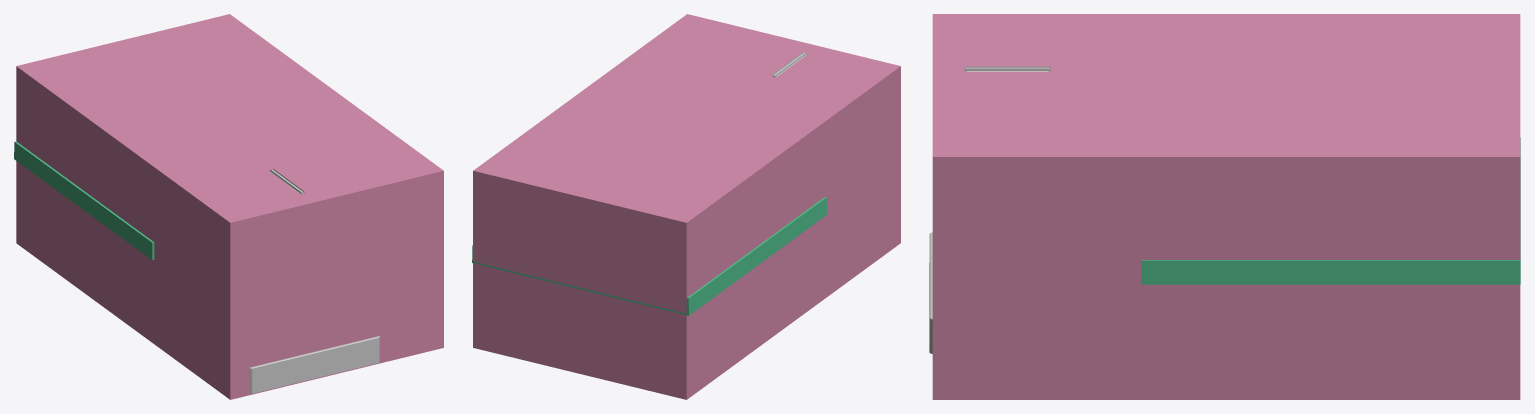
File: gas_station_01.dae
The picture shows the model from 3 angles, left to right: view 1: azimuth 30°, elevation 25°; view 2: azimuth 150°, elevation 25°; view 3: azimuth 270°, elevation 25°; orthographic projection. The views are drawn at different scales.
Visible parts, largest first — view 1: Untitled, ind_bld_a500, Colmesh-1; view 2: Untitled, Colmesh-1; view 3: Untitled, Colmesh-1, ind_bld_a500.
Boxes of the visible parts, x1=… form: Untitled: x1=16, y1=14, x2=443, y2=399; ind_bld_a500: x1=249, y1=169, x2=379, y2=393; Colmesh-1: x1=14, y1=141, x2=154, y2=260; Untitled: x1=473, y1=14, x2=900, y2=399; Colmesh-1: x1=472, y1=197, x2=826, y2=315; Untitled: x1=932, y1=14, x2=1520, y2=399; Colmesh-1: x1=1141, y1=137, x2=1520, y2=284; ind_bld_a500: x1=929, y1=67, x2=1049, y2=353.
Bounding box in the file's own units: 9.79 × 16.85 × 7.73.
